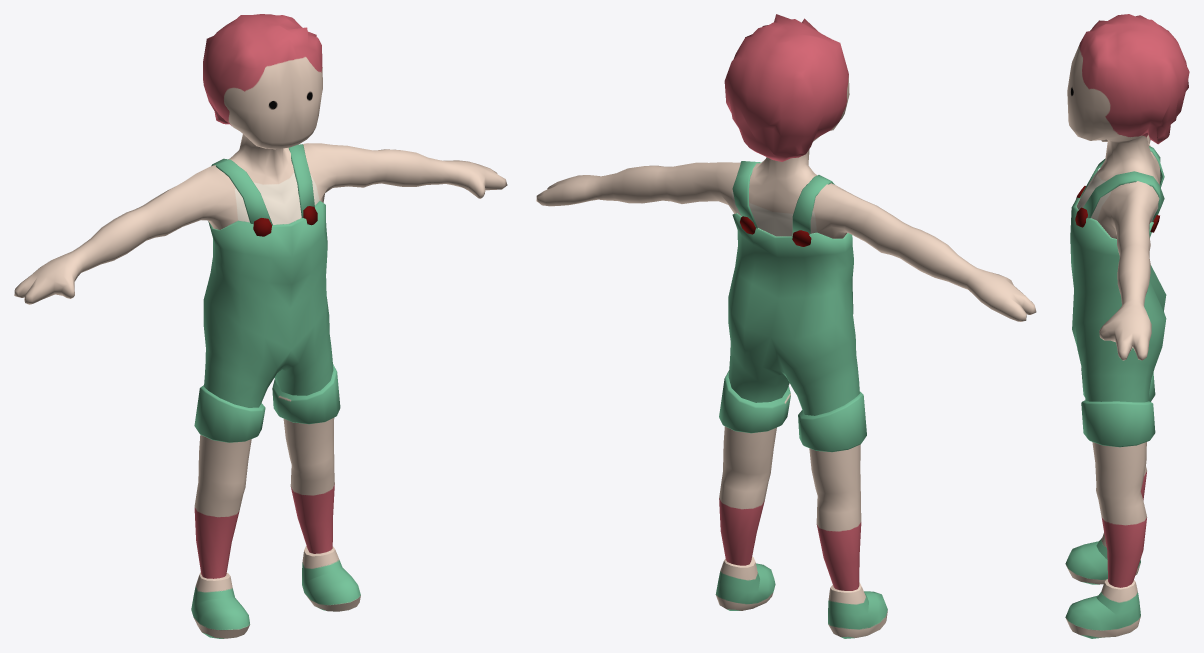
The model's file is Perso_T_POSE_JAM_2024.fbx.
3 renders of one model, left to right at view 1: azimuth 30°, elevation 25°; view 2: azimuth 150°, elevation 25°; view 3: azimuth 270°, elevation 25°, orthographic. The views are drawn at different scales.
Parts seen in each view (by area): view 1: PERSO; view 2: PERSO; view 3: PERSO.
Part boxes in pixels (x1=…): PERSO: x1=14, y1=14, x2=507, y2=638; PERSO: x1=536, y1=14, x2=1036, y2=638; PERSO: x1=1065, y1=14, x2=1189, y2=638.
Bounding box in the file's own units: 115 × 134 × 25.82.
Materials: 1 (1 with a texture image).
